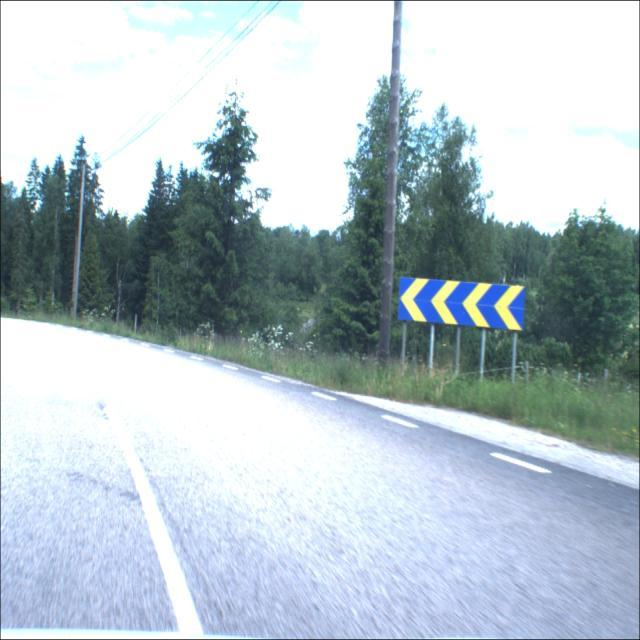181: (394, 268, 530, 342)
Marking for sharp bends: (397, 265, 528, 337)
